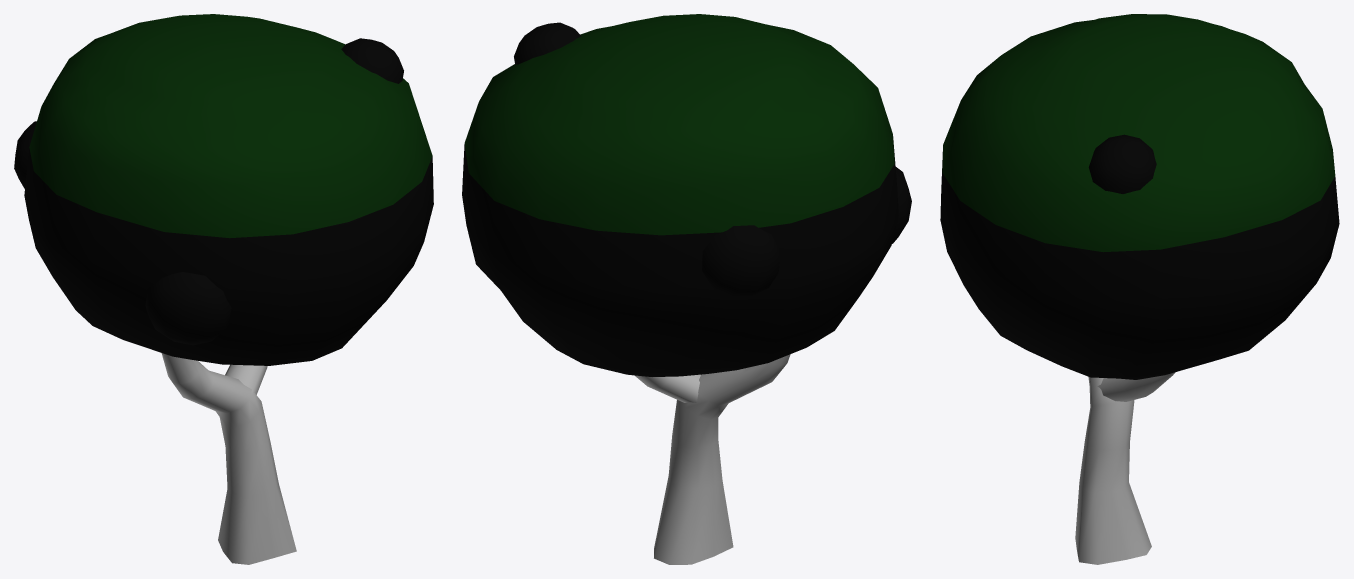
The model's file is sm_Tree01_LOD03.fbx.
3 renders of one model, left to right at view 1: azimuth 30°, elevation 25°; view 2: azimuth 150°, elevation 25°; view 3: azimuth 270°, elevation 25°, orthographic. The views are drawn at different scales.
Parts seen in each view (by area): view 1: sm_TreeCanopy, sm_TreeTrunk; view 2: sm_TreeCanopy, sm_TreeTrunk; view 3: sm_TreeCanopy, sm_TreeTrunk.
Part boxes in pixels (x1=…): sm_TreeCanopy: x1=14, y1=14, x2=433, y2=365; sm_TreeTrunk: x1=161, y1=353, x2=296, y2=564; sm_TreeCanopy: x1=462, y1=14, x2=911, y2=376; sm_TreeTrunk: x1=634, y1=354, x2=790, y2=564; sm_TreeCanopy: x1=940, y1=14, x2=1339, y2=379; sm_TreeTrunk: x1=1075, y1=372, x2=1175, y2=564.
Size of the model in its own units: 46.09 by 59.78 by 44.02.
